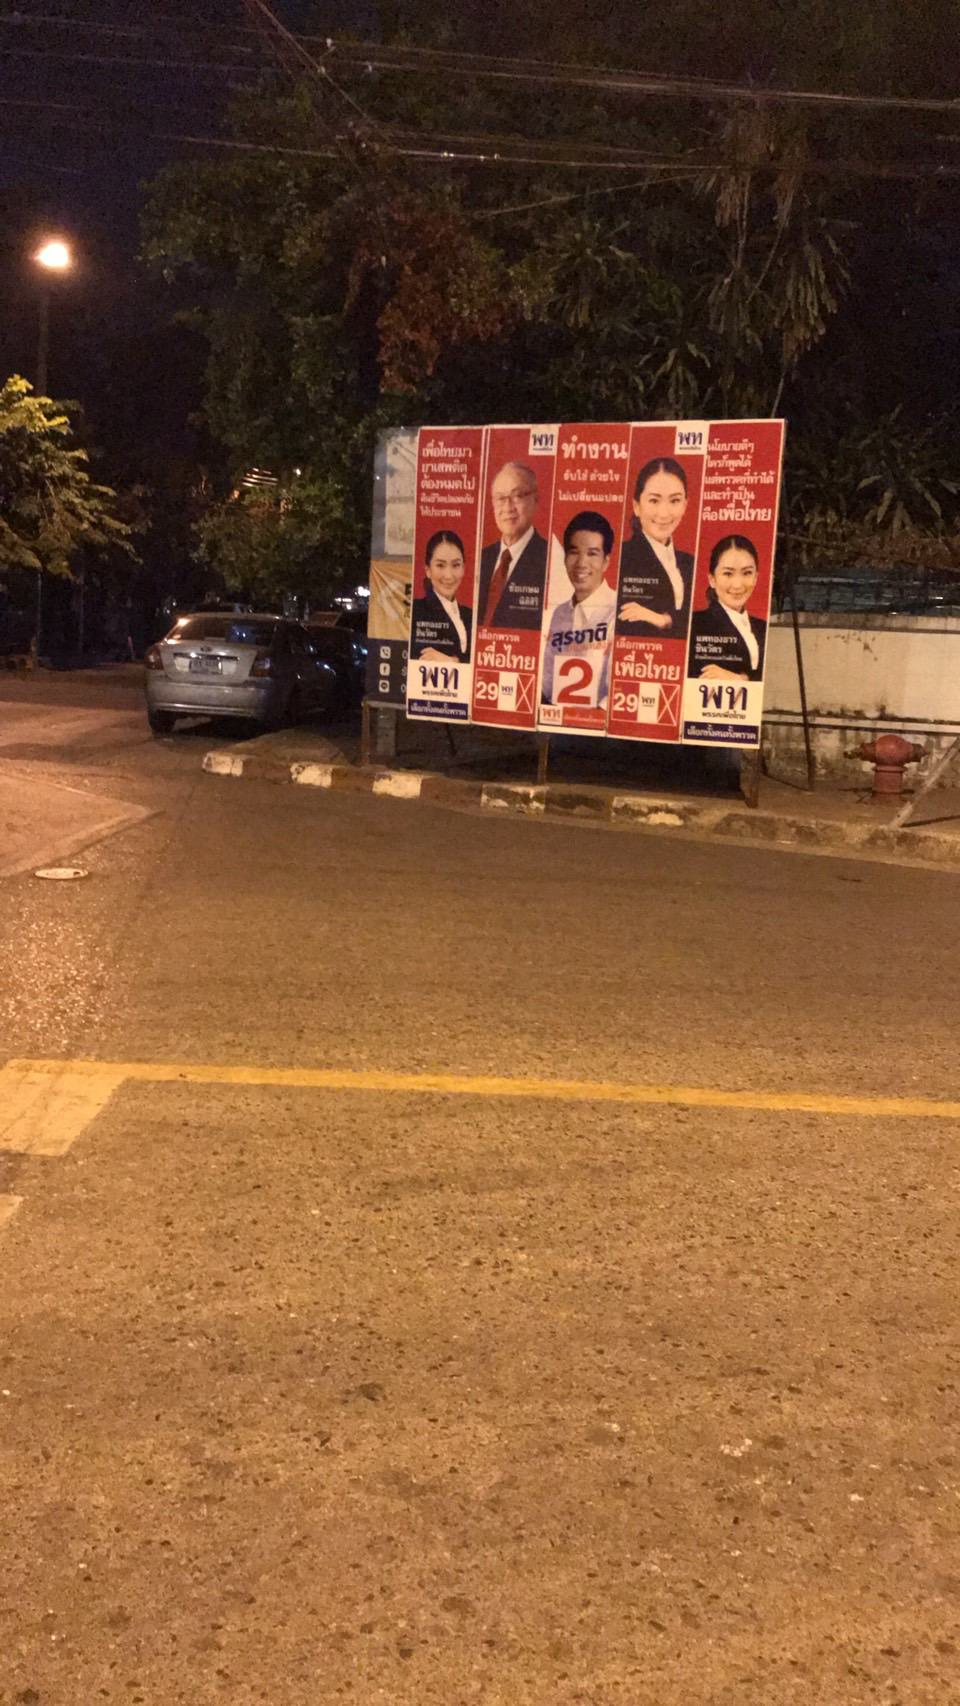Banner: (686, 414, 798, 756), (472, 395, 539, 756), (552, 398, 619, 756), (619, 403, 686, 756), (421, 430, 475, 724), (372, 430, 421, 716)
